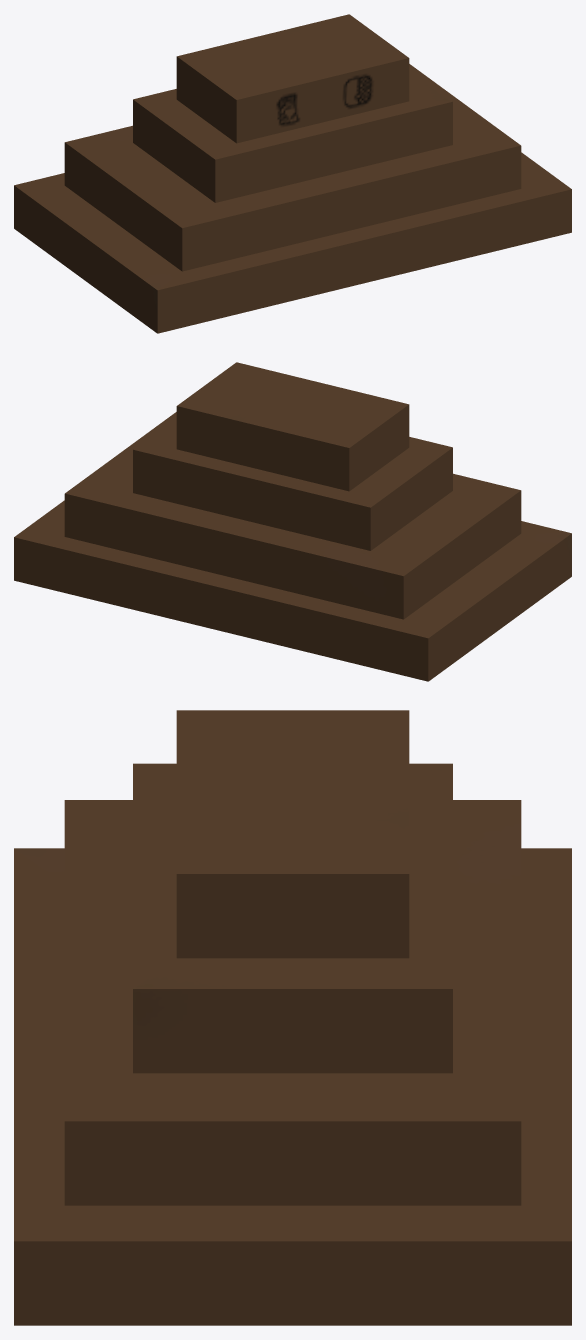
File: altar1.FBX
3 renders of one model, top to bottom at view 1: azimuth 30°, elevation 25°; view 2: azimuth 150°, elevation 25°; view 3: azimuth 270°, elevation 25°, orthographic. The views are drawn at different scales.
Parts seen in each view (by area): view 1: Box001; view 2: Box001; view 3: Box001.
Part boxes in pixels (bbox=[...]): Box001: bbox=[14, 14, 571, 333]; Box001: bbox=[14, 362, 571, 681]; Box001: bbox=[14, 710, 571, 1325].
Bounding box in the file's own units: 98.43 × 39.37 × 59.06.
1 material, 1 textured.
